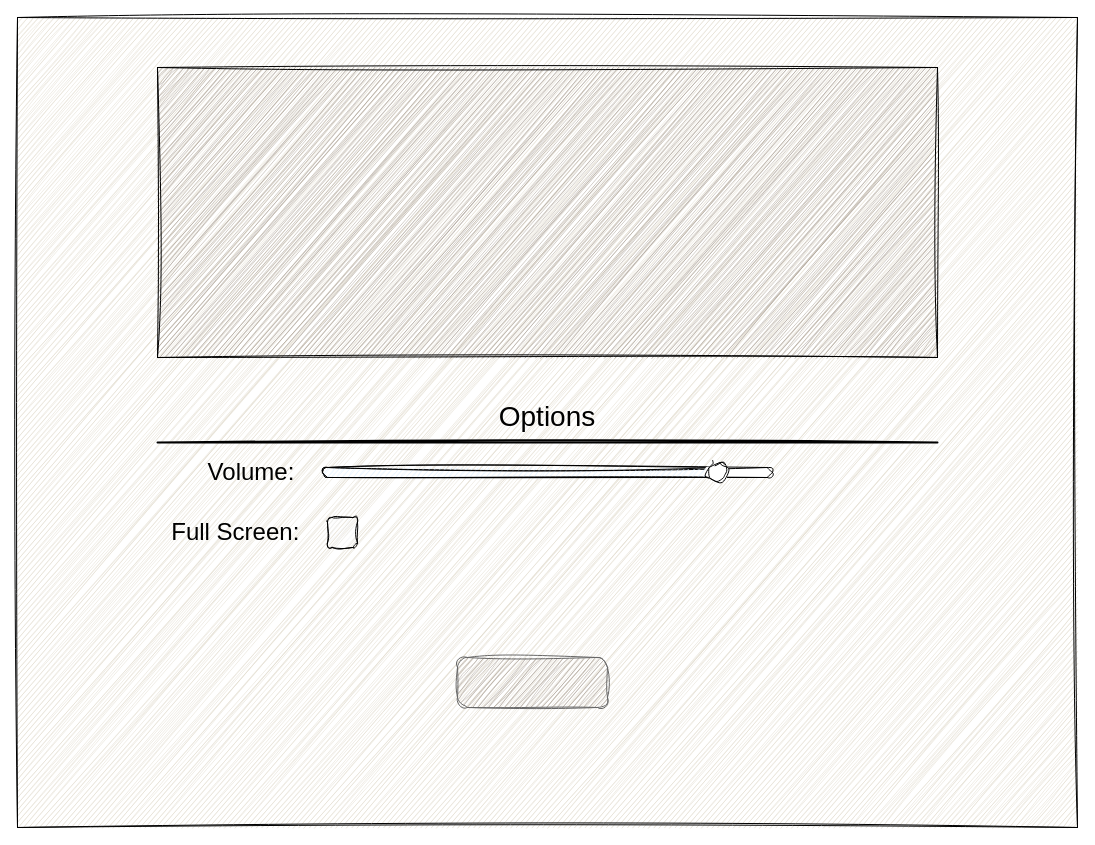
This 1095x845 diagram has some shape labels left out. Each missing label, with the centre of its shape:
"LOGO" goes at pixel 547 212.
"Return to Title" goes at pixel 532 682.
